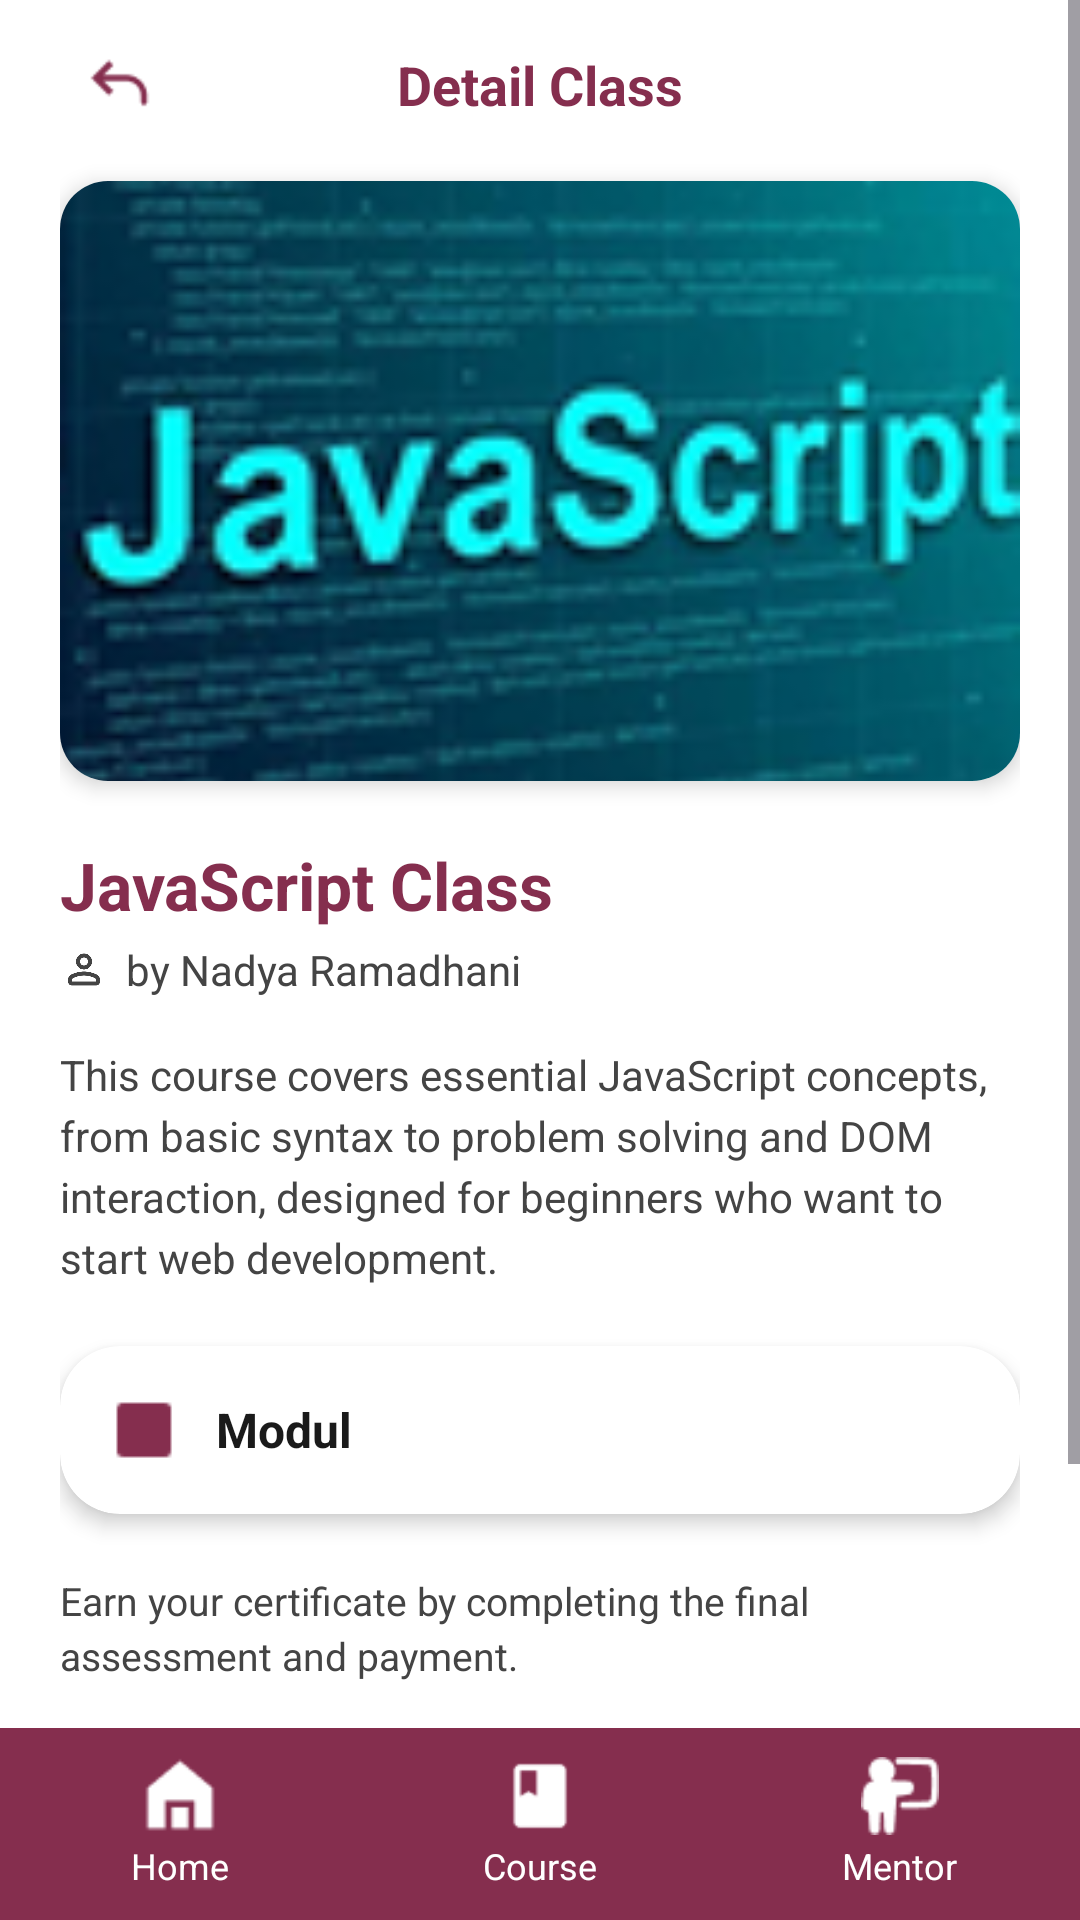

Named icons in this screenshot (1080 x 1920) and their centers, [x,y]:
back: [120,83]
kontak: [84,969]
